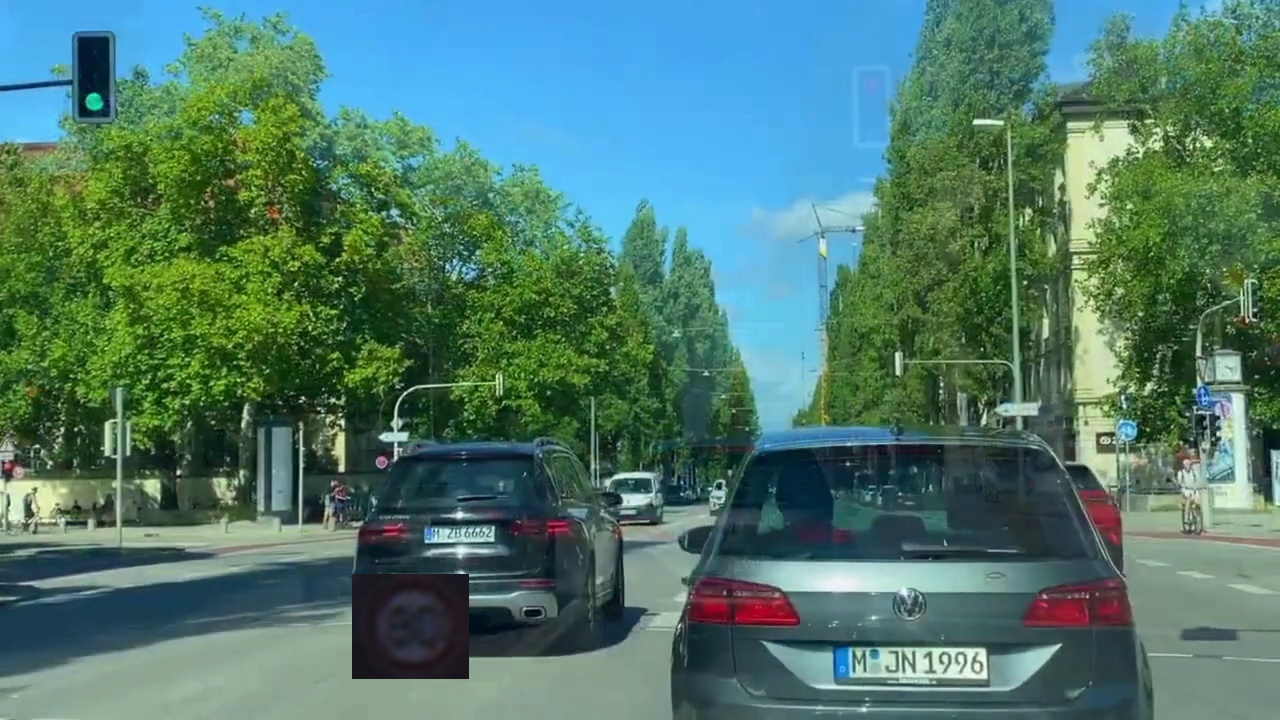Speed 80: (352, 574, 469, 679)
